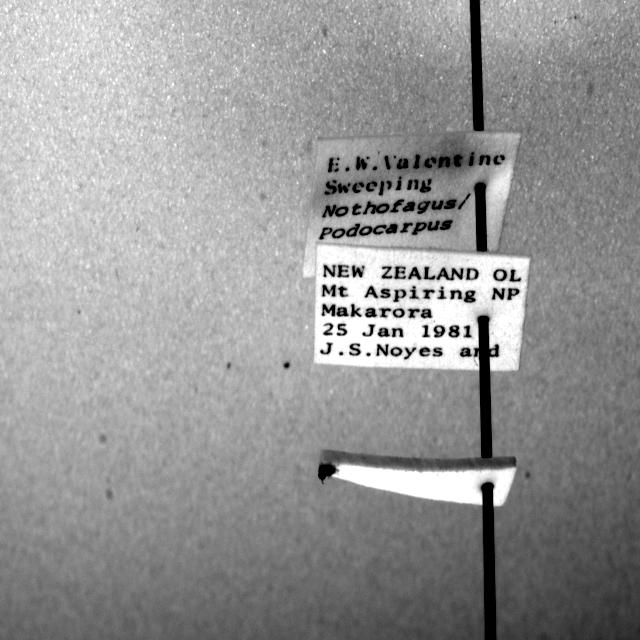typed_label: (304, 131, 521, 278), (314, 244, 530, 371)
